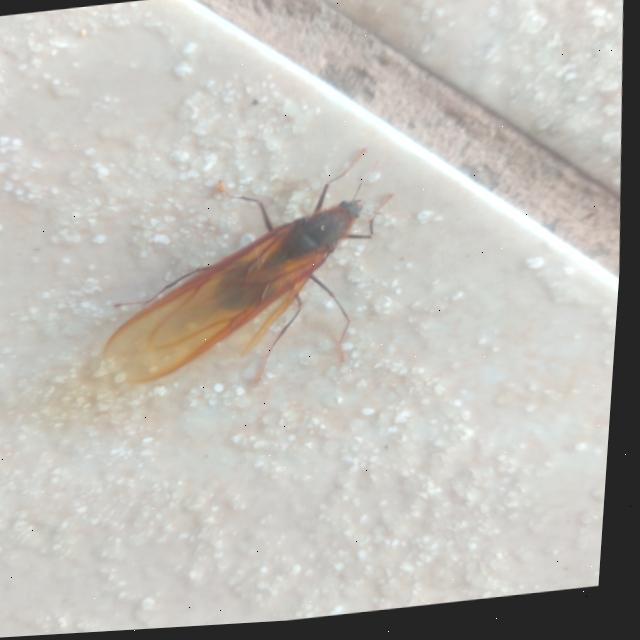Alive-Male-Alate: (100, 152, 407, 408)
